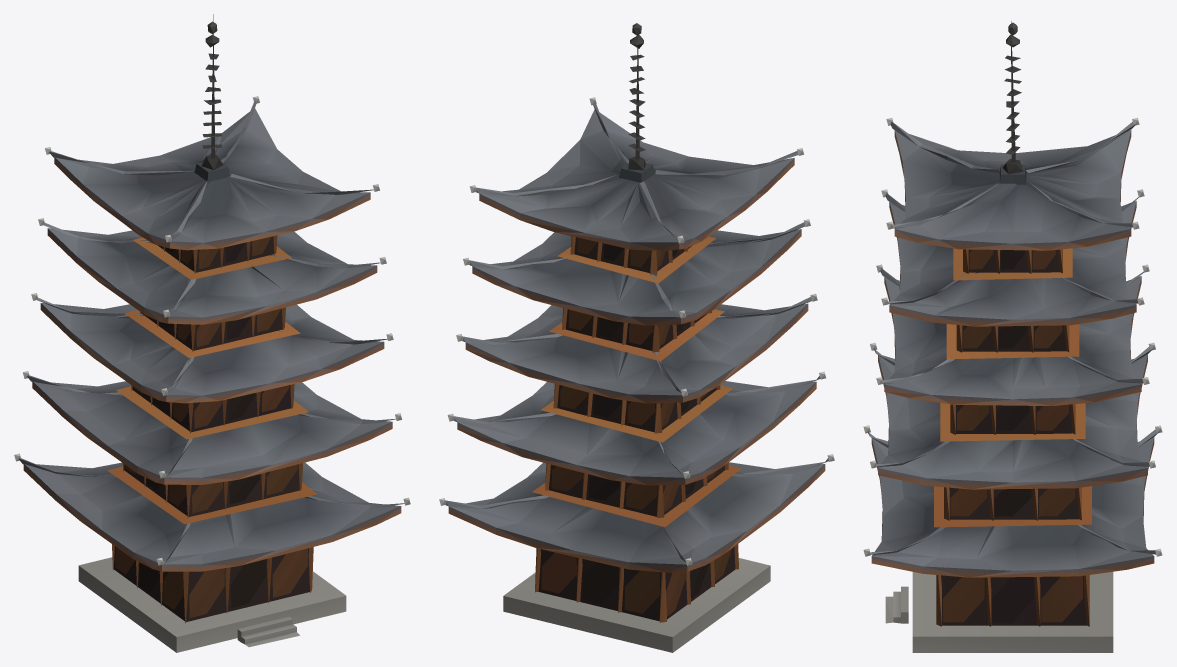
The model's file is zen_pagoda-lod1.glb.
3 views of the same model, side by side, from view 1: azimuth 30°, elevation 25°; view 2: azimuth 150°, elevation 25°; view 3: azimuth 270°, elevation 25° (orthographic). The views are drawn at different scales.
Visible parts, largest first — view 1: zen_pagoda; view 2: zen_pagoda; view 3: zen_pagoda.
Part boxes in pixels (x1,y1,x2,y2): zen_pagoda: (14,14,410,652); zen_pagoda: (439,23,834,652); zen_pagoda: (863,21,1162,652).
Bounding box in the file's own units: 11.7 × 25.85 × 11.75.
